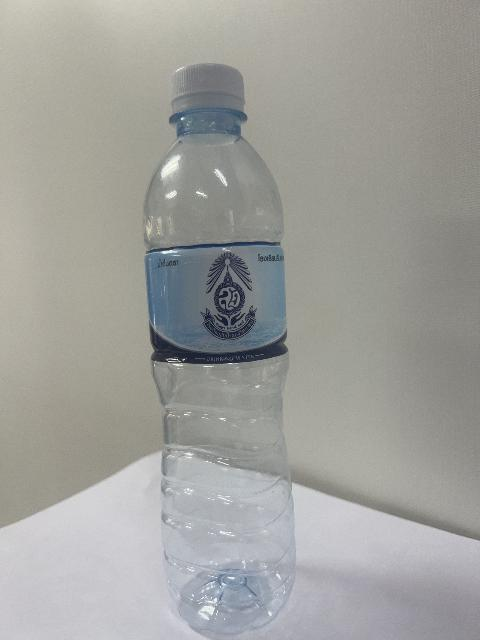bottle: (144, 64, 295, 634)
